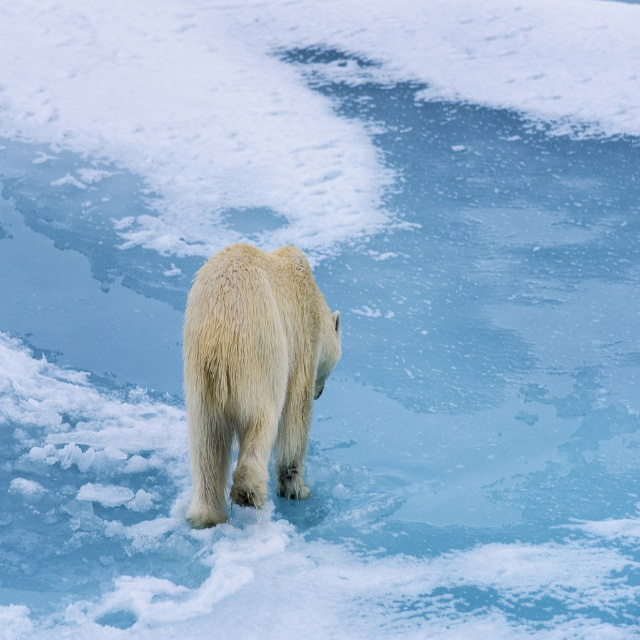Polar bear: (181, 240, 340, 530)
